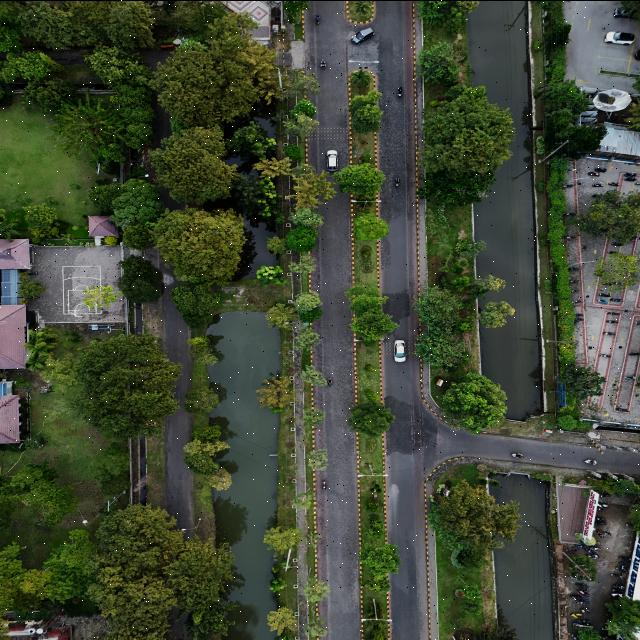Tree: (332, 162, 384, 196), (347, 402, 395, 436), (359, 542, 402, 572), (352, 212, 389, 240), (184, 385, 218, 415), (350, 104, 386, 132), (262, 526, 300, 552), (285, 224, 318, 252), (298, 364, 328, 386), (307, 446, 330, 472), (295, 328, 321, 348), (296, 305, 322, 323), (459, 240, 487, 256), (300, 406, 322, 426), (186, 332, 212, 347), (349, 69, 371, 86), (268, 576, 288, 593), (284, 144, 302, 160), (364, 499, 382, 512)
